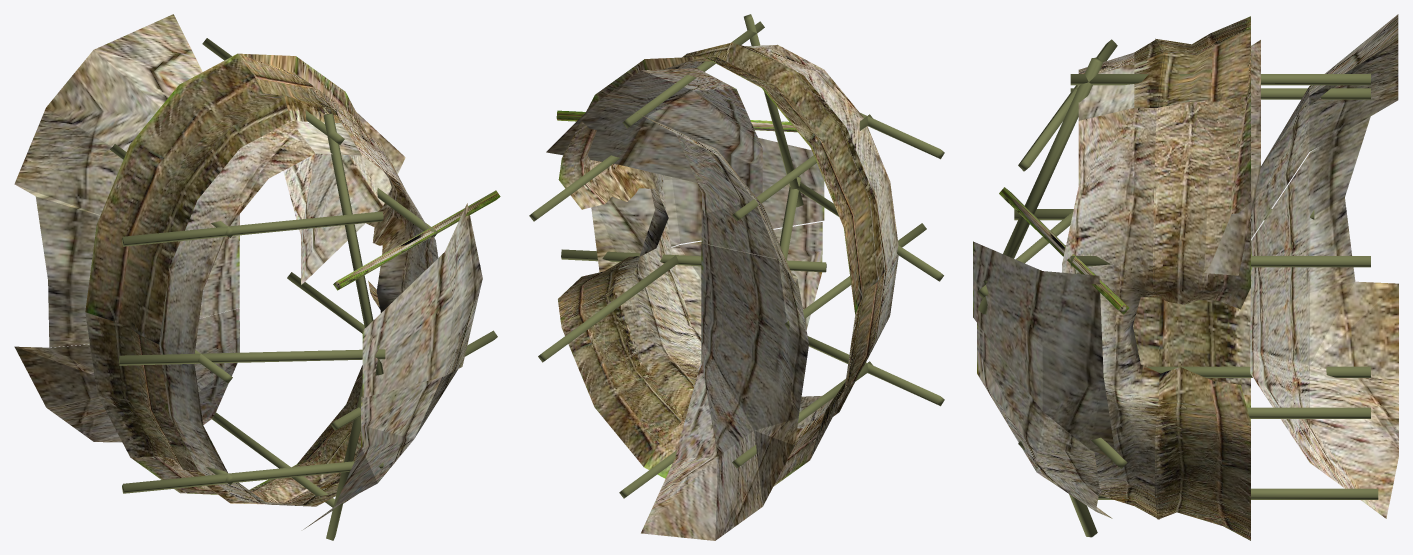
File: hut_000038.obj
3 renders of one model, left to right at view 1: azimuth 30°, elevation 25°; view 2: azimuth 150°, elevation 25°; view 3: azimuth 270°, elevation 25°, orthographic. The views are drawn at different scales.
Parts seen in each view (by area): view 1: Sphere.003, Sphere.002, Sphere.004, Sphere.001, Sphere.005, Sphere.007, Sphere.008, Sphere.006, Sphere, Cylinder.013_Cylinder.014, Cylinder.008_Cylinder.010, Cylinder.012_Cylinder.013 (+8 smaller); view 2: Sphere.008, Sphere.003, Sphere.001, Sphere.006, Sphere.002, Sphere.007, Sphere.005, Sphere.004, Sphere, Cylinder.003, Cylinder.011_Cylinder.012, Cylinder.012_Cylinder.013 (+11 smaller); view 3: Sphere.003, Sphere.001, Sphere.008, Sphere.002, Sphere.005, Sphere.007, Sphere.004, Sphere, Sphere.006, Cylinder.009, Cylinder.001, Cylinder.004 (+8 smaller).
Part boxes in pixels (x1,y1,x2,y2): Sphere.003: (138,95,438,506); Sphere.002: (85,53,392,494); Sphere.004: (14,14,239,240); Sphere.001: (117,78,409,504); Sphere.005: (362,203,482,397); Sphere.007: (35,196,239,347); Sphere.008: (14,308,239,442); Sphere.006: (283,72,405,284); Sphere: (303,369,457,529); Cylinder.013_Cylinder.014: (122,211,383,246); Cylinder.008_Cylinder.010: (119,349,385,365); Cylinder.012_Cylinder.013: (122,461,383,493); Sphere.008: (641,311,798,540); Sphere.003: (615,43,898,440); Sphere.001: (585,42,877,454); Sphere.006: (546,68,762,196); Sphere.002: (558,56,862,486); Sphere.007: (701,243,808,417); Sphere.005: (591,137,824,272); Sphere.004: (637,113,797,282); Sphere: (671,222,822,336); Cylinder.003: (538,255,678,362); Cylinder.011_Cylinder.012: (561,249,826,272); Cylinder.012_Cylinder.013: (807,336,944,406); Sphere.003: (1062,39,1165,519); Sphere.001: (1153,34,1222,525); Sphere.008: (1250,281,1398,518); Sphere.002: (1199,16,1250,540); Sphere.005: (973,241,1114,455); Sphere.007: (1250,116,1370,316); Sphere.004: (1251,14,1398,238); Sphere: (977,323,1112,518); Sphere.006: (1204,40,1260,275); Cylinder.009: (977,57,1102,314); Cylinder.001: (1070,74,1370,85); Cylinder.004: (1070,256,1370,267).
Size of the model in its own units: 4.43 by 4.88 by 3.78.
